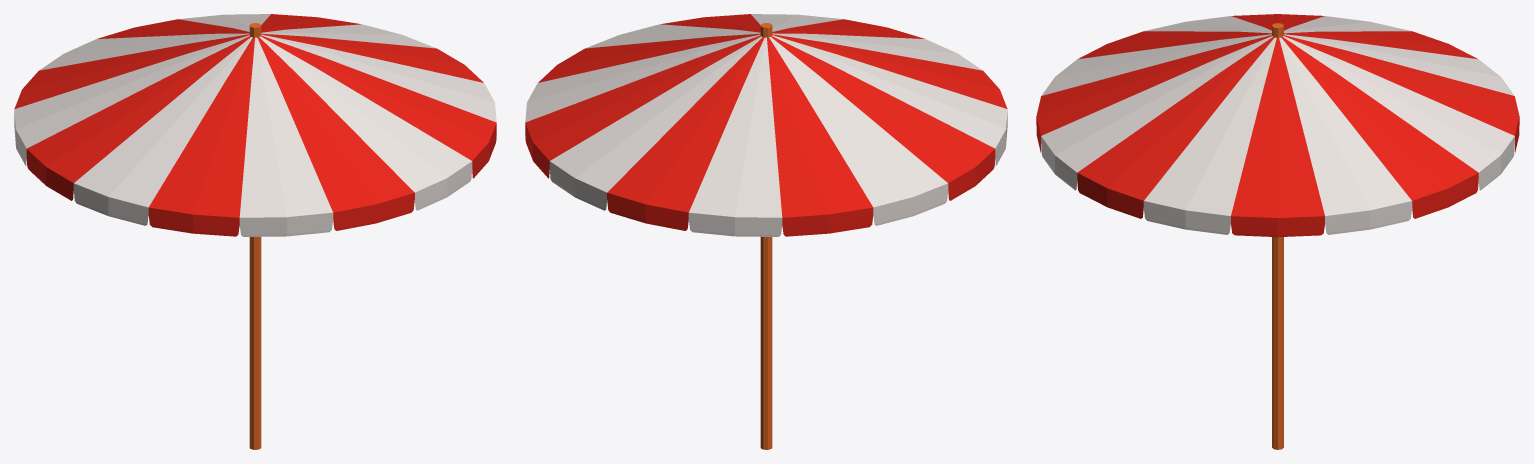
File: umbrella_A.fbx
The picture shows the model from 3 angles, left to right: view 1: azimuth 30°, elevation 25°; view 2: azimuth 150°, elevation 25°; view 3: azimuth 270°, elevation 25°; orthographic projection.
Parts seen in each view (by area): view 1: umbrella_A; view 2: umbrella_A; view 3: umbrella_A.
Boxes of the visible parts, <box> form: umbrella_A: <box>14,14,496,449</box>; umbrella_A: <box>525,14,1007,449</box>; umbrella_A: <box>1036,14,1519,449</box>.
Size of the model in its own units: 314 by 303 by 314.
